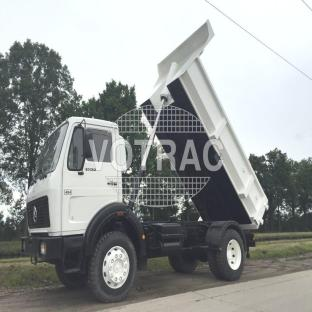Vehicle: (14, 66, 271, 284)
